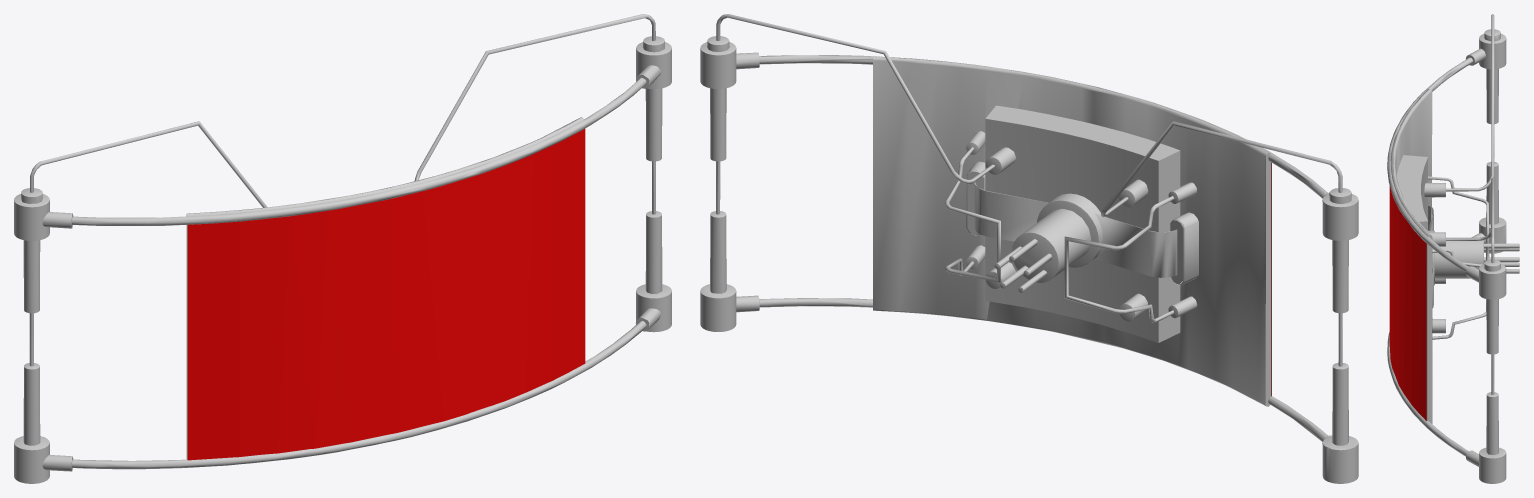
The model's file is Screen_5.FBX.
3 views of the same model, side by side, from view 1: azimuth 30°, elevation 25°; view 2: azimuth 150°, elevation 25°; view 3: azimuth 270°, elevation 25° (orthographic). The views are drawn at different scales.
Visible parts, largest first — view 1: Screen, Screen_5; view 2: Screen_5; view 3: Screen_5, Screen.
Boxes of the visible parts, x1,y1,x2,y2 form: Screen: [187, 129, 585, 460]; Screen_5: [14, 14, 671, 483]; Screen_5: [700, 14, 1358, 483]; Screen_5: [1387, 14, 1519, 483]; Screen: [1389, 186, 1426, 420].
Size of the model in its own units: 695 by 320 by 161.
